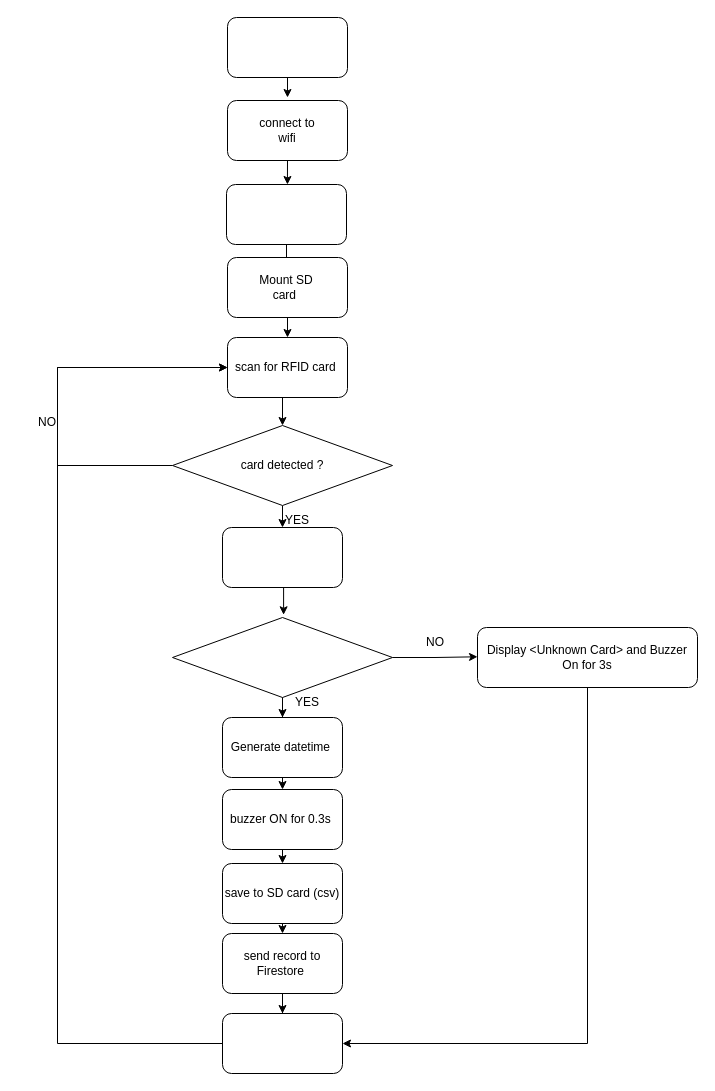
Image size: 715x1091. Some labels were removed from this diagram. The centre of each missing label's shape, as x and y in pixels:
"is UID in student database?" goes at (x=282, y=657).
"read UID" goes at (x=282, y=557).
"start" goes at (x=287, y=47).
"sync time via NTP" goes at (x=286, y=214).
"wait 1 second" goes at (x=282, y=1043).
